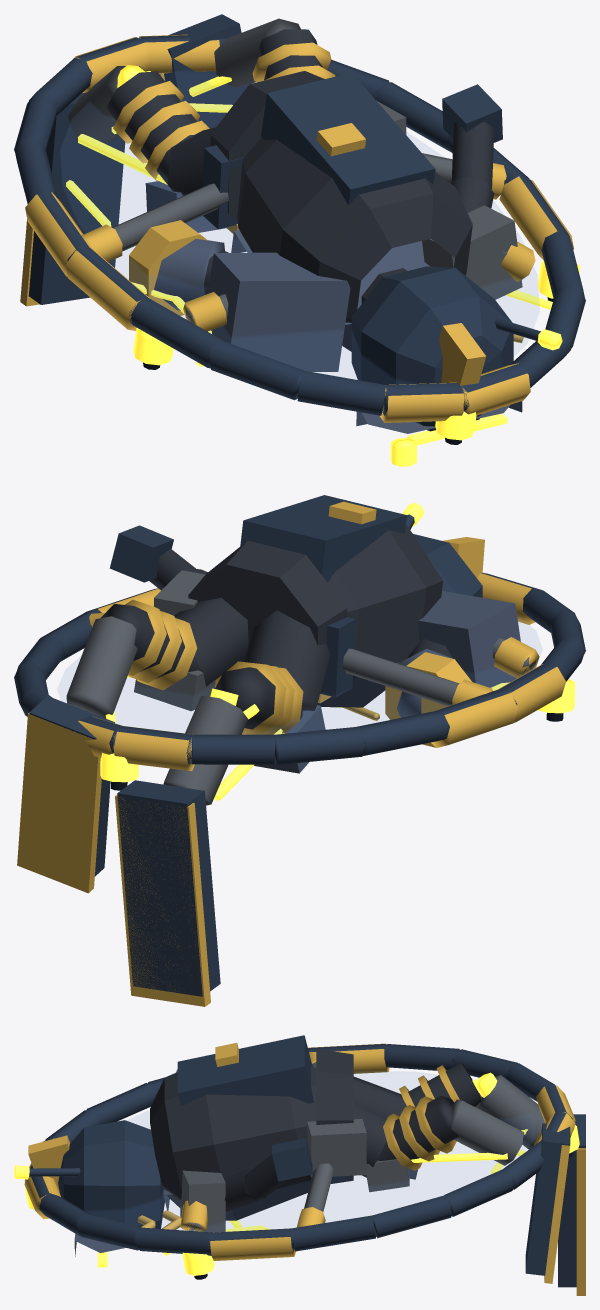
The model's file is bulwark_shield.glb.
3 renders of one model, top to bottom at view 1: azimuth 30°, elevation 25°; view 2: azimuth 150°, elevation 25°; view 3: azimuth 270°, elevation 25°, orthographic. The views are drawn at different scales.
Parts seen in each view (by area): view 1: Kinetic_Torso_Core, Kinetic_Specialist_Helmet, Shield_Shoulder_Anchor, Back_Shield_Bus, Lead_Long_Toe, Balance_Shoulder_Light, Kinetic_Hip_Core, Trail_Long_Toe, Lead_Calf_Spring, Integrated_Halo_Ring_08, Integrated_Halo_Ring_09, Shield_Arm_Gold_Coupler (+48 smaller); view 2: Lead_Long_Toe, Trail_Gold_Toe_Rail, Kinetic_Torso_Core, Kinetic_Hip_Core, Back_Shield_Bus, Shield_Shoulder_Anchor, Trail_Heel_Strut, Lead_Power_Thigh, Lead_Gold_Toe_Rail, Trail_Power_Thigh, Lead_Heel_Strut, Halo_Mount_Left_Hip (+34 smaller); view 3: Kinetic_Torso_Core, Kinetic_Specialist_Helmet, Back_Shield_Bus, Trail_Long_Toe, Hip_Balance_Module, Kinetic_Hip_Core, Trail_Heel_Strut, Lead_Long_Toe, Lead_Heel_Strut, Trail_Calf_Spring, Balance_Shoulder_Light, Integrated_Halo_Ring_20 (+39 smaller).
Part boxes in pixels (x1,y1,x2,y2): Kinetic_Torso_Core: (237, 137, 472, 351); Kinetic_Specialist_Helmet: (351, 266, 513, 431); Shield_Shoulder_Anchor: (208, 252, 350, 371); Back_Shield_Bus: (261, 72, 435, 204); Lead_Long_Toe: (28, 92, 125, 304); Balance_Shoulder_Light: (422, 205, 522, 299); Kinetic_Hip_Core: (210, 71, 324, 220); Trail_Long_Toe: (164, 14, 248, 128); Lead_Calf_Spring: (106, 71, 197, 185); Integrated_Halo_Ring_08: (210, 340, 303, 400); Integrated_Halo_Ring_09: (131, 297, 222, 368); Shield_Arm_Gold_Coupler: (129, 220, 207, 315); Lead_Long_Toe: (117, 780, 220, 996); Trail_Gold_Toe_Rail: (17, 712, 101, 893); Kinetic_Torso_Core: (317, 524, 442, 707); Kinetic_Hip_Core: (188, 540, 347, 661); Back_Shield_Bus: (240, 495, 406, 582); Shield_Shoulder_Anchor: (418, 591, 520, 687); Trail_Heel_Strut: (66, 616, 137, 718); Lead_Power_Thigh: (244, 610, 330, 710); Lead_Gold_Toe_Rail: (115, 795, 210, 1006); Trail_Power_Thigh: (174, 597, 248, 686); Lead_Heel_Strut: (163, 695, 248, 805); Halo_Mount_Left_Hip: (342, 648, 459, 705); Kinetic_Torso_Core: (150, 1067, 316, 1220); Kinetic_Specialist_Helmet: (58, 1120, 164, 1228); Back_Shield_Bus: (177, 1035, 313, 1106); Trail_Long_Toe: (525, 1123, 570, 1275); Hip_Balance_Module: (307, 1118, 366, 1177); Kinetic_Hip_Core: (316, 1049, 353, 1183); Trail_Heel_Strut: (451, 1099, 523, 1165); Lead_Long_Toe: (558, 1114, 585, 1287); Lead_Heel_Strut: (476, 1075, 545, 1149); Trail_Calf_Spring: (378, 1096, 459, 1160); Balance_Shoulder_Light: (180, 1170, 225, 1232); Integrated_Halo_Ring_20: (291, 1215, 375, 1251).
Size of the model in its own units: 2.17 by 1.51 by 3.08.
